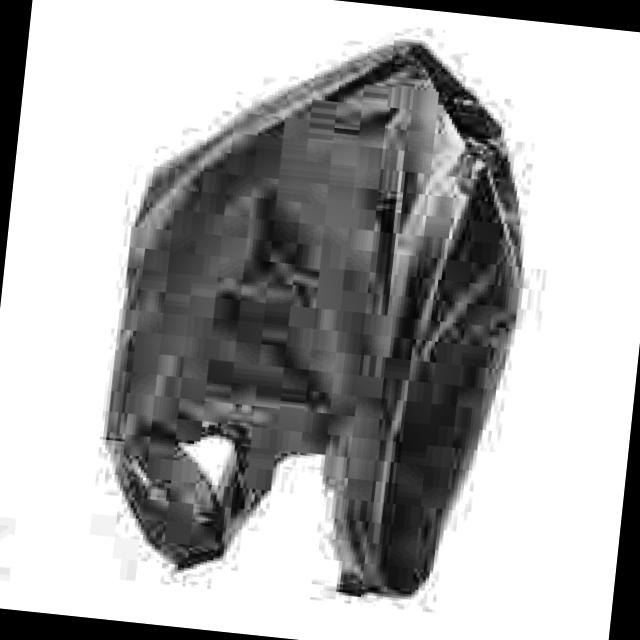plastic bag: (106, 45, 520, 596)
